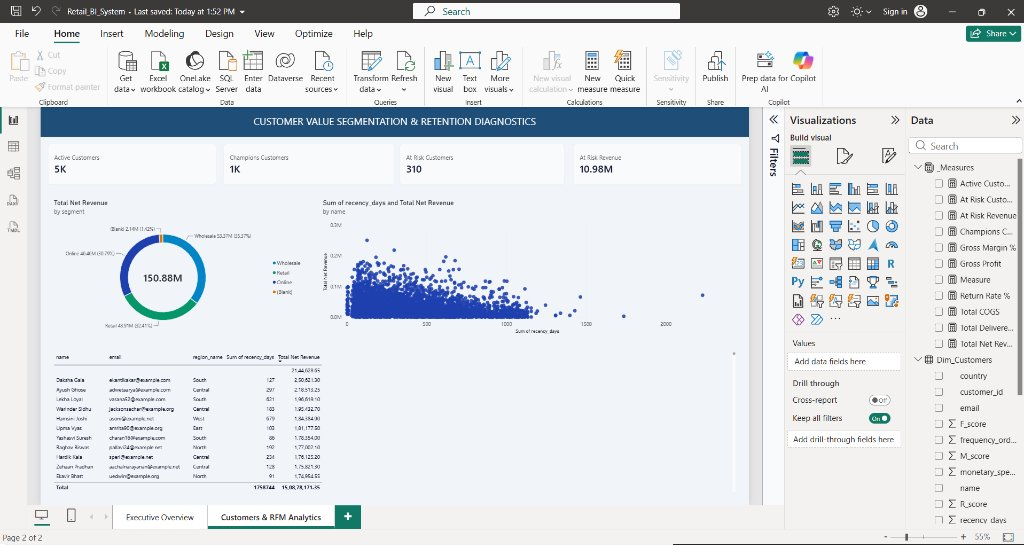

The dashboard page shown, as its layout file describes it:
{"tool":"powerbi","page":{"name":"Customers & RFM Analytics","canvas":[1920,1080],"ordinal":1},"visuals":[{"type":"shape","box":[0,0,1920.1,81.4],"z":0},{"type":"textbox","box":[0,19.9,1920.1,36.2],"z":1000},{"type":"cardVisual","title":"Active Customers","fields":{"Data":["_Measures.Active Customers"]},"box":[19.9,99.5,456,112.2],"z":2000},{"type":"cardVisual","title":"Champions Customers","fields":{"Data":["_Measures.Champions Customers"]},"box":[495.8,99.5,463.3,112.2],"z":3000},{"type":"cardVisual","title":"At Risk Customers","fields":{"Data":["_Measures.At Risk Customers"]},"box":[973.6,99.5,447,112.2],"z":4000},{"type":"cardVisual","title":"At Risk Revenue ","fields":{"Data":["_Measures.At Risk Revenue"]},"box":[1444.1,99.5,456,112.2],"z":5000},{"type":"donutChart","title":"Revenue by Customer Segment","fields":{"Category":["Dim_Customers.RFM_Segment"],"Y":["_Measures.Total Net Revenue"]},"box":[20,235,710,395],"z":6000},{"type":"scatterChart","title":"Customer Spend vs Days Inactive","fields":{"Category":["Dim_Customers.name"],"Series":["Dim_Customers.RFM_Segment"],"X":["Sum(Dim_Customers.recency_days)"],"Y":["_Measures.Total Net Revenue"]},"box":[750,235,1150,395],"z":7000},{"type":"tableEx","title":"At-Risk Customers (Win-Back List)","fields":{"Values":["Dim_Customers.name","Dim_Customers.email","Dim_Region.region_name","Sum(Dim_Customers.recency_days)","_Measures.Total Net Revenue"]},"box":[20,650,1880,410],"z":8000}]}

Visuals, with their boxes on the page's 1920x1080 design canvas (x1, y1, x2, y2). These are canvas units, not pixel positions in the 1024x545 screenshot, which may show the page scaled, cropped or inside an application window:
shape: pyautogui.locateOnScreen(0, 0, 1920, 81)
textbox: pyautogui.locateOnScreen(0, 20, 1920, 56)
"Active Customers" cardVisual: pyautogui.locateOnScreen(20, 100, 476, 212)
"Champions Customers" cardVisual: pyautogui.locateOnScreen(496, 100, 959, 212)
"At Risk Customers" cardVisual: pyautogui.locateOnScreen(974, 100, 1421, 212)
"At Risk Revenue " cardVisual: pyautogui.locateOnScreen(1444, 100, 1900, 212)
"Revenue by Customer Segment" donutChart: pyautogui.locateOnScreen(20, 235, 730, 630)
"Customer Spend vs Days Inactive" scatterChart: pyautogui.locateOnScreen(750, 235, 1900, 630)
"At-Risk Customers (Win-Back List)" tableEx: pyautogui.locateOnScreen(20, 650, 1900, 1060)
